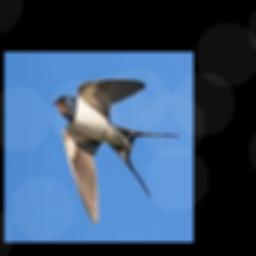Swallow: (53, 79, 179, 224)
